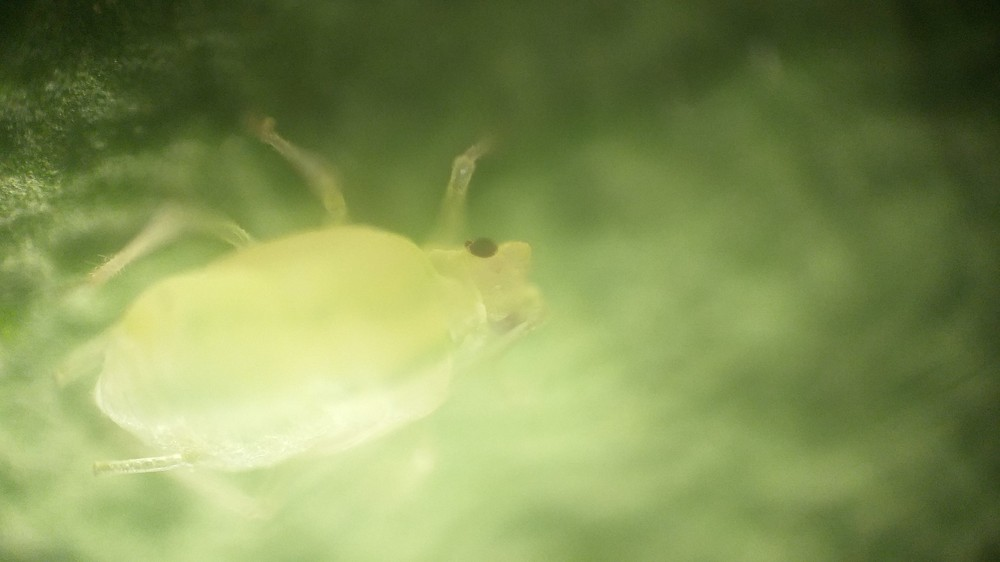Pulgon: (42, 121, 564, 548)
